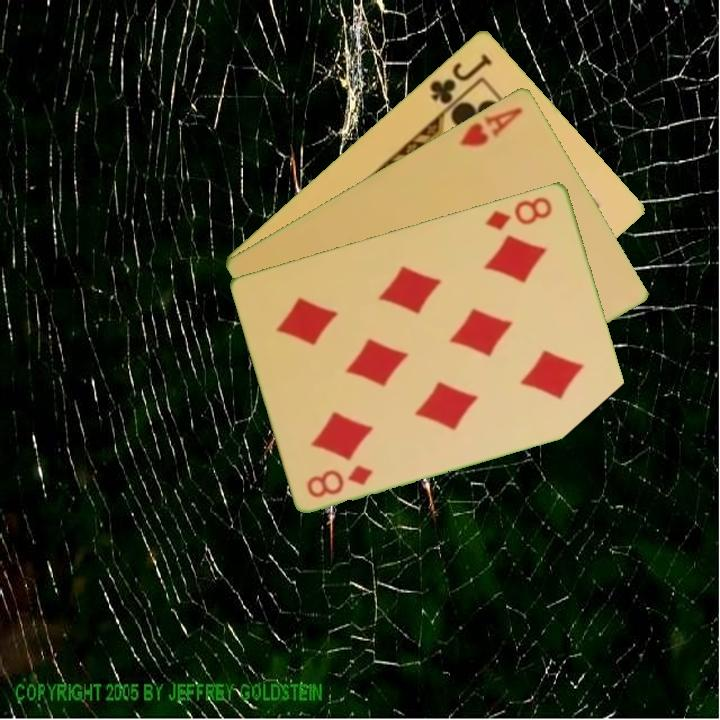8d: (482, 193, 556, 233), (303, 461, 377, 500)
Ah: (456, 102, 526, 149)
Jc: (425, 49, 495, 107)
